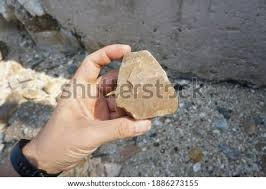obstacle: (115, 50, 175, 118)
